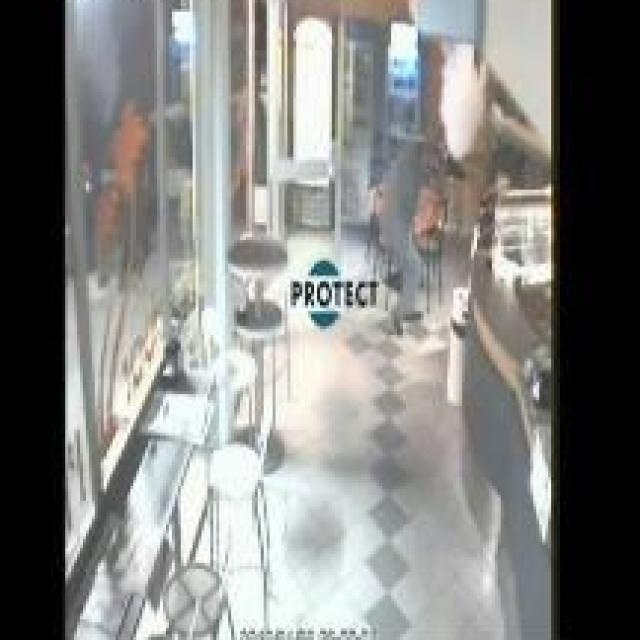fire: (436, 47, 486, 160)
